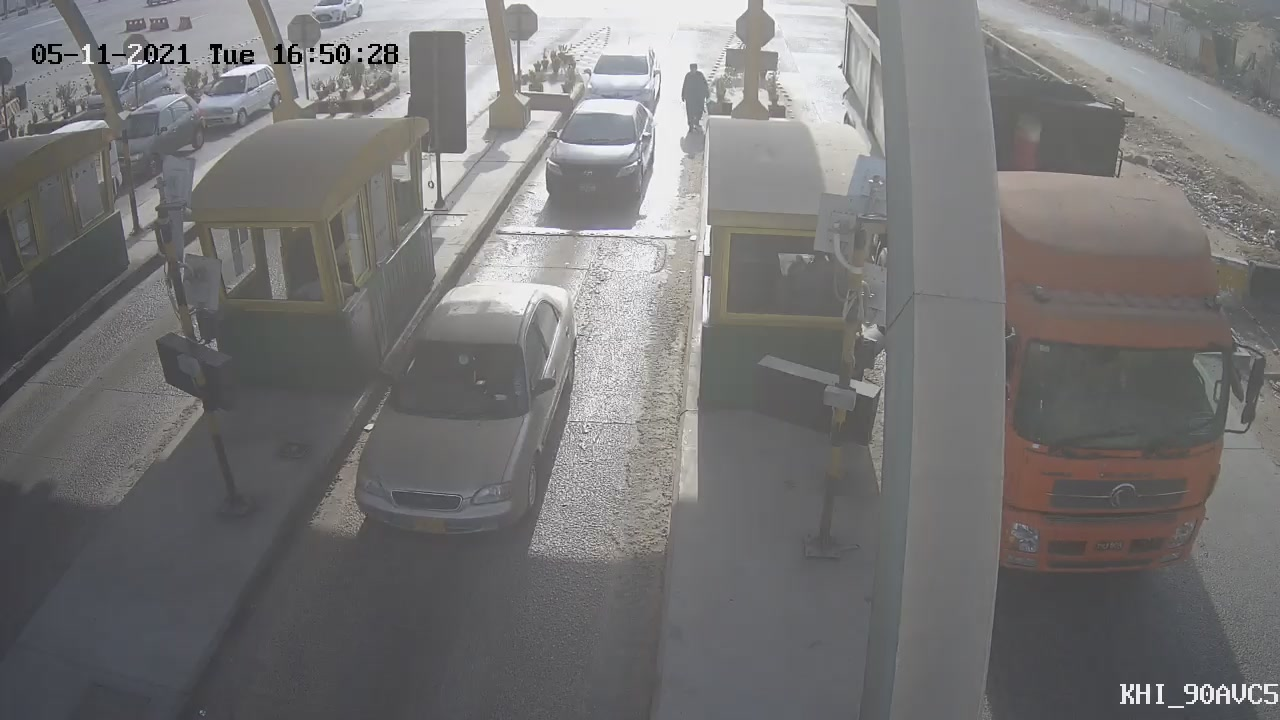F1: (335, 264, 604, 566), (527, 86, 670, 218)
